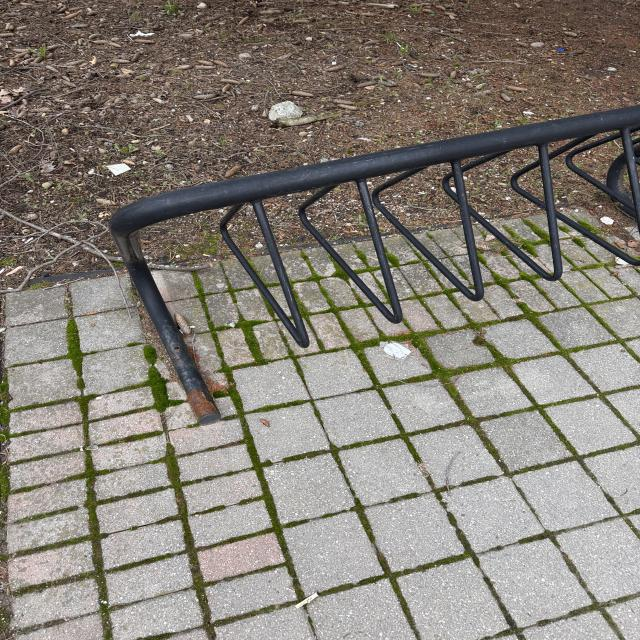Bicycle Rack: (115, 106, 640, 423)
